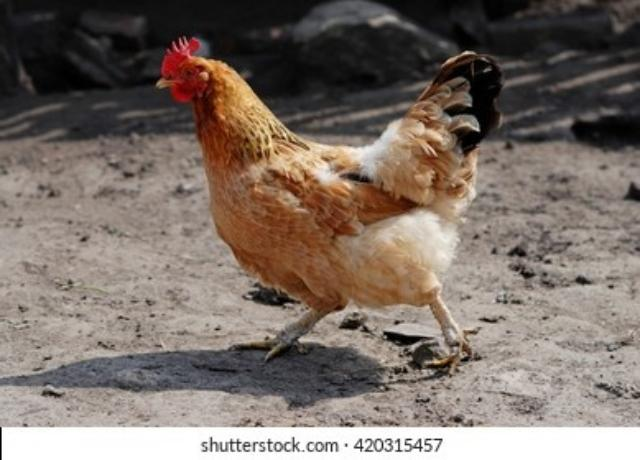Chicken: (157, 36, 505, 376)
